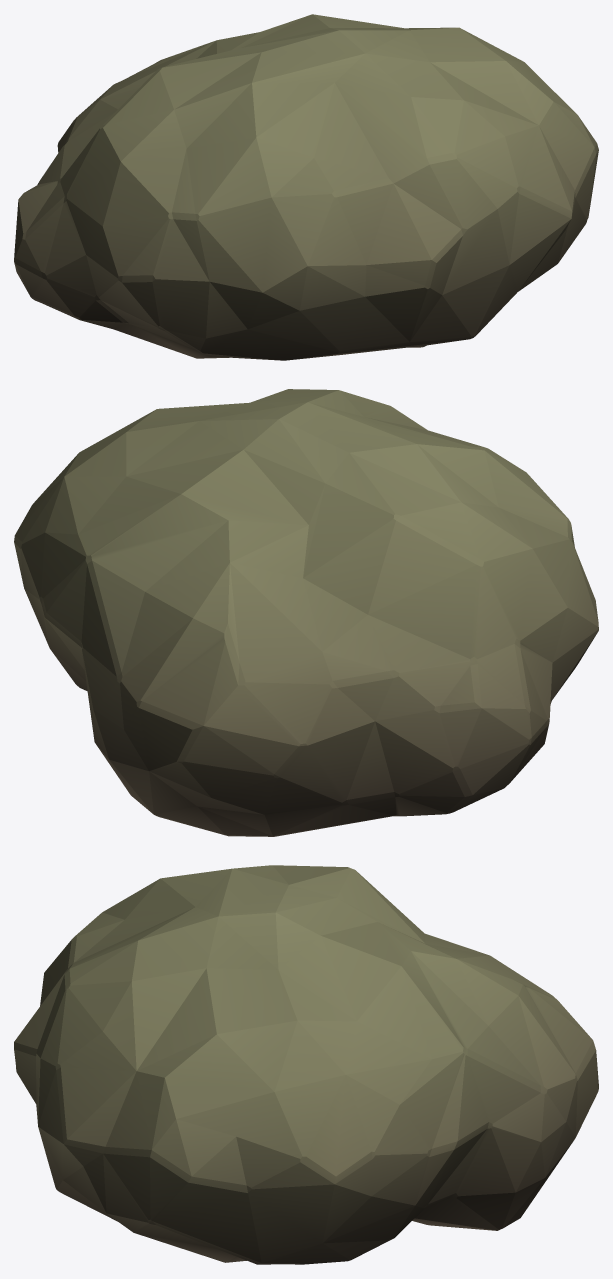
Rendered from skala_0.glb.
3 renders of one model, top to bottom at view 1: azimuth 30°, elevation 25°; view 2: azimuth 150°, elevation 25°; view 3: azimuth 270°, elevation 25°, orthographic. The views are drawn at different scales.
Visible parts, largest first — view 1: skala_0_0; view 2: skala_0_0; view 3: skala_0_0.
Part boxes in pixels (box(x1,y1,x2,y2)): skala_0_0: box(14, 14, 598, 360); skala_0_0: box(14, 389, 598, 836); skala_0_0: box(14, 865, 598, 1264).
Size of the model in its own units: 1.36 by 0.7906 by 1.28.
